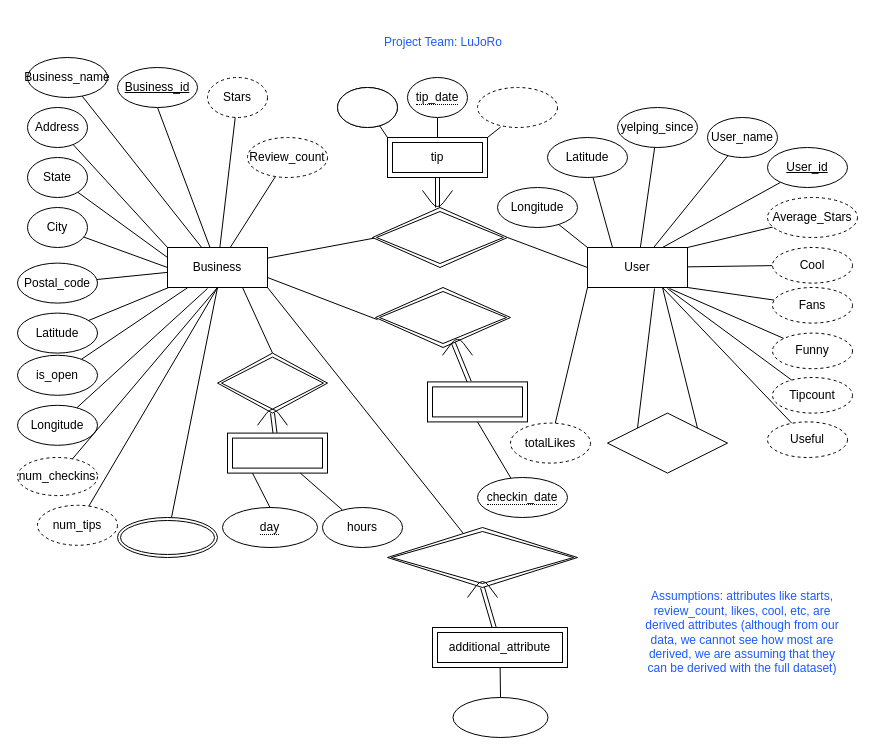
Some shapes in this 875 by 755 pixel diagram are drawn without their labels. The centre of each missing label's shape, as x and y in pixels:
"attribute_name" belongs at point (500, 717).
"Categories" belongs at point (167, 537).
"CheckIn" belongs at point (477, 401).
"give_tip" belongs at point (440, 237).
"has_additional_attributes" belongs at point (482, 557).
"has_checks_in" belongs at point (442, 317).
"has_hours" belongs at point (272, 382).
"is_Friends_With" belongs at point (667, 442).
"likes" belongs at point (517, 107).
"user_text" belongs at point (367, 107).
"week_hours" belongs at point (277, 452).
